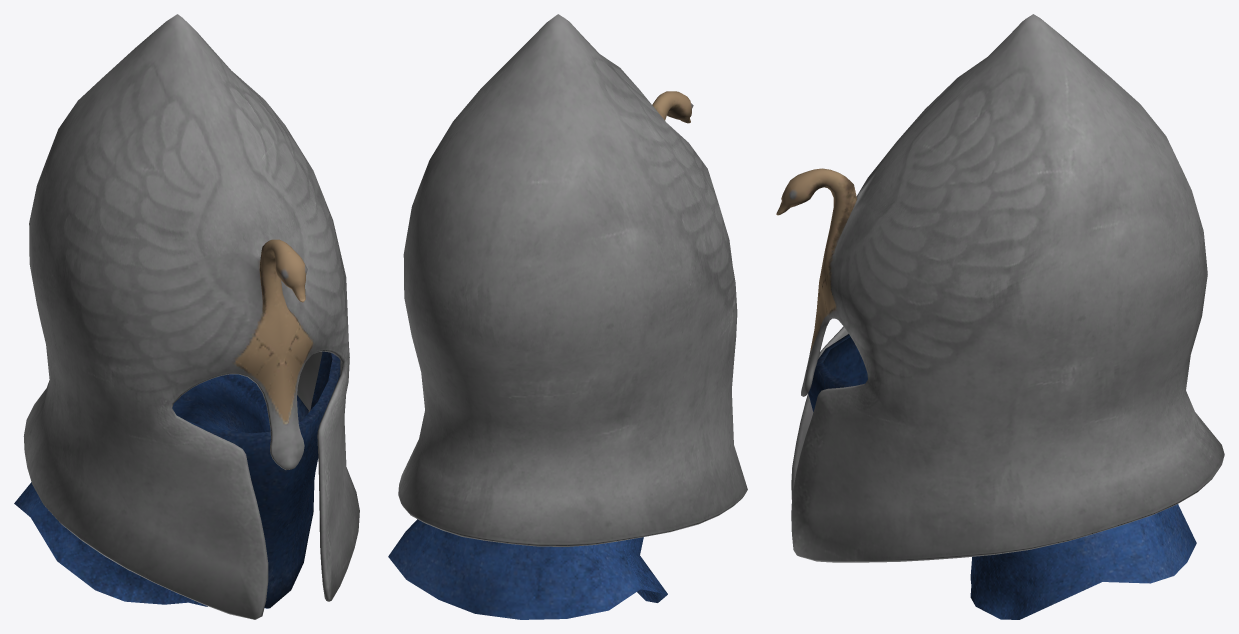
File: dol_amroth_helmet_elite_mask.fbx
3 views of the same model, side by side, from view 1: azimuth 30°, elevation 25°; view 2: azimuth 150°, elevation 25°; view 3: azimuth 270°, elevation 25° (orthographic). The views are drawn at different scales.
Visible parts, largest first — view 1: dol_amroth_helmet_elite_mask; view 2: dol_amroth_helmet_elite_mask; view 3: dol_amroth_helmet_elite_mask.
Part boxes in pixels (x1,y1,x2,y2): dol_amroth_helmet_elite_mask: (14,14,359,619); dol_amroth_helmet_elite_mask: (388,14,747,619); dol_amroth_helmet_elite_mask: (776,14,1224,619).
Bounding box in the file's own units: 0.2087 × 0.2887 × 0.4144.
Materials: 1 (1 with a texture image).
